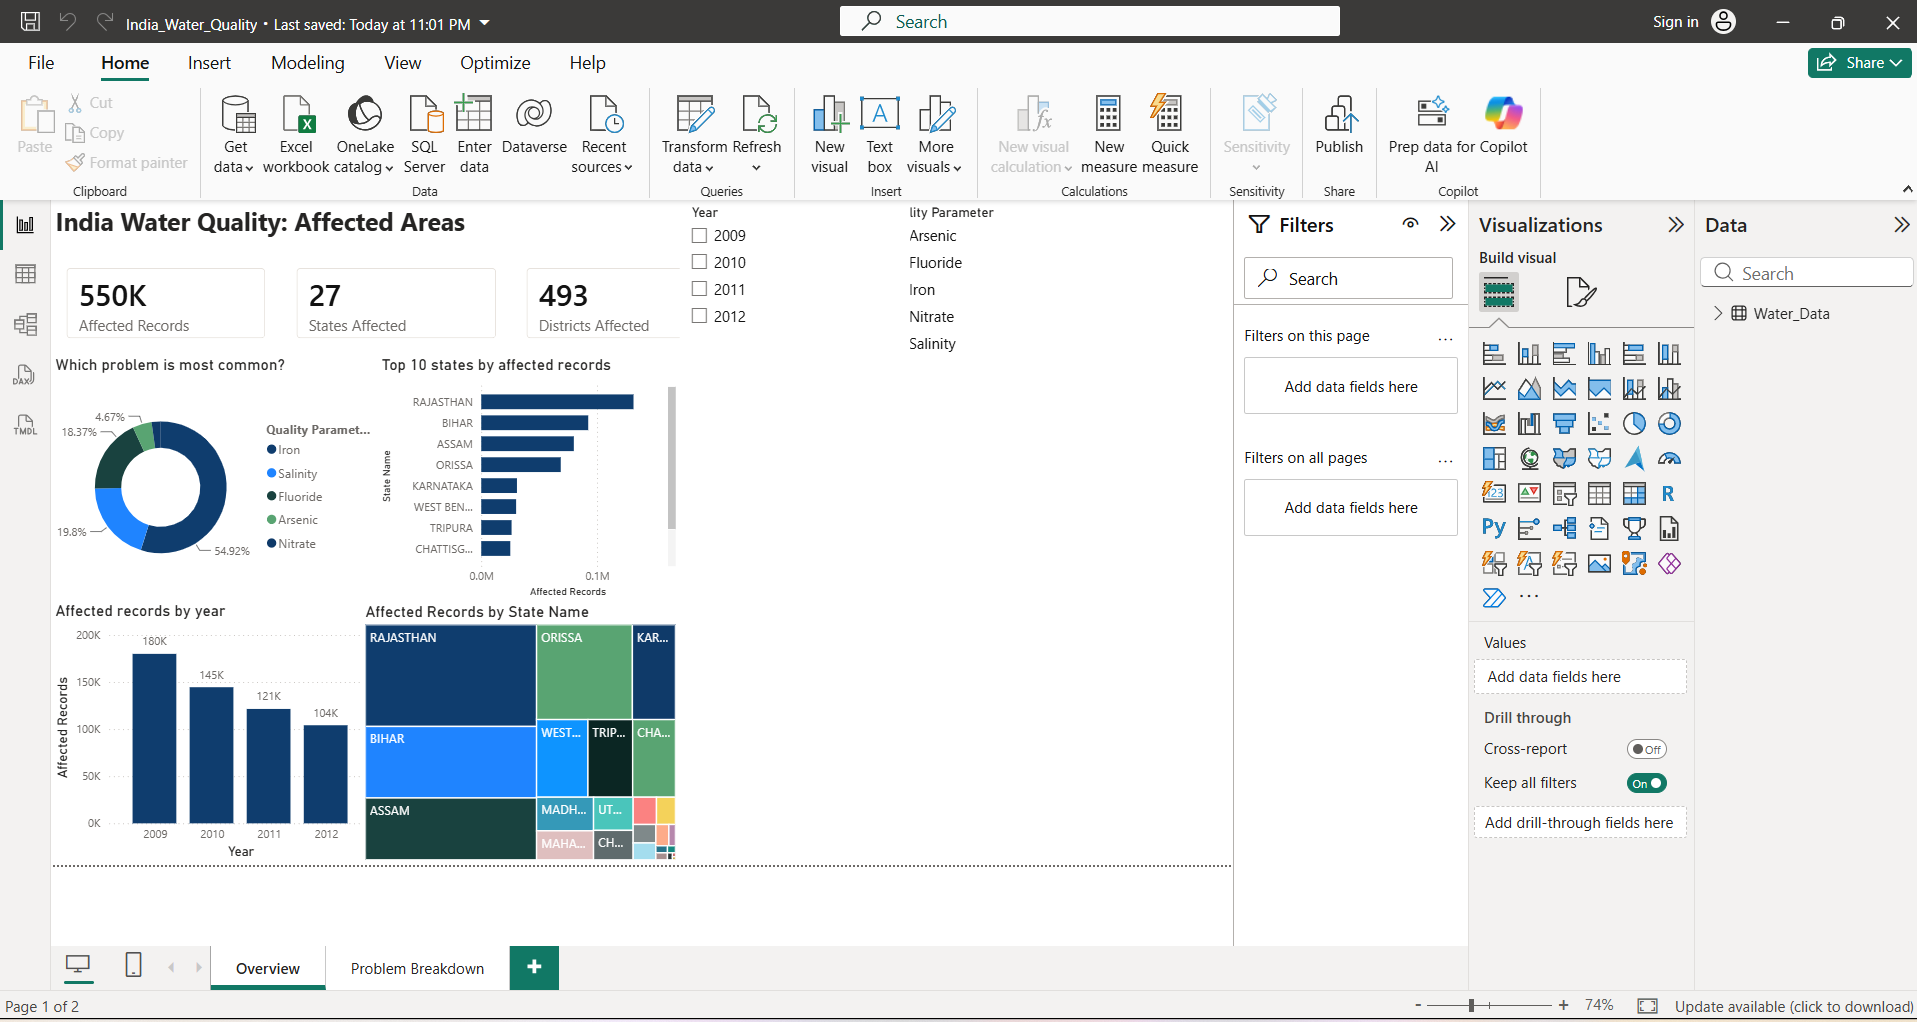

The dashboard page shown, as its layout file describes it:
{"tool":"powerbi","page":{"name":"Overview","canvas":[1280,720],"ordinal":0},"visuals":[{"type":"cardVisual","fields":{"Data":["Water_Data.Affected Records"]},"box":[0,56.9,249.3,110.4],"z":0},{"type":"cardVisual","fields":{"Data":["Water_Data.States Affected"]},"box":[249.3,56.9,251,110.4],"z":1000},{"type":"cardVisual","fields":{"Data":["Water_Data.Districts Affected"]},"box":[498.6,56.9,249.3,110.4],"z":2000},{"type":"donutChart","title":"Which problem is most common?","fields":{"Category":["Water_Data.Quality Parameter"],"Y":["Water_Data.Affected Records"]},"box":[0,167.3,353,267.7],"z":3000},{"type":"clusteredColumnChart","title":"Affected records by year","fields":{"Category":["Water_Data.Year"],"Y":["Water_Data.Affected Records"]},"box":[0,435,353,284.4],"z":4000},{"type":"clusteredBarChart","title":"Top 10 states by affected records","fields":{"Category":["Water_Data.State Name"],"Y":["Water_Data.Affected Records"]},"box":[353,167.3,327.9,267.7],"z":5000},{"type":"slicer","fields":{"Values":["Water_Data.Quality Parameter"]},"box":[891.8,0,230.9,180.7],"z":6000},{"type":"slicer","fields":{"Values":["Water_Data.Year"]},"box":[681,0,249.3,167.3],"z":7000},{"type":"textbox","box":[0,0,483.6,56.9],"z":8000},{"type":"treemap","fields":{"Group":["Water_Data.State Name"],"Values":["Water_Data.Affected Records"]},"box":[335.8,435.6,345.6,283.8],"z":9000}]}

Visuals, with their boxes on the page's 1280x720 design canvas (x1, y1, x2, y2). These are canvas units, not pixel positions in the 1917x1022 screenshot, which may show the page scaled, cropped or inside an application window:
cardVisual - Water_Data.Affected Records: x1=0 y1=57 x2=249 y2=167
cardVisual - Water_Data.States Affected: x1=249 y1=57 x2=500 y2=167
cardVisual - Water_Data.Districts Affected: x1=499 y1=57 x2=748 y2=167
"Which problem is most common?" donutChart: x1=0 y1=167 x2=353 y2=435
"Affected records by year" clusteredColumnChart: x1=0 y1=435 x2=353 y2=719
"Top 10 states by affected records" clusteredBarChart: x1=353 y1=167 x2=681 y2=435
slicer - Water_Data.Quality Parameter: x1=892 y1=0 x2=1123 y2=181
slicer - Water_Data.Year: x1=681 y1=0 x2=930 y2=167
textbox: x1=0 y1=0 x2=484 y2=57
treemap - Water_Data.State Name x Water_Data.Affected Records: x1=336 y1=436 x2=681 y2=719
